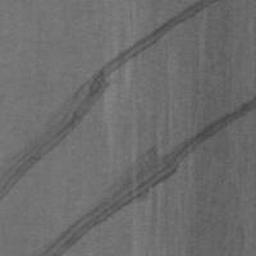Water spot: (0, 0, 221, 206), (35, 92, 256, 256)
